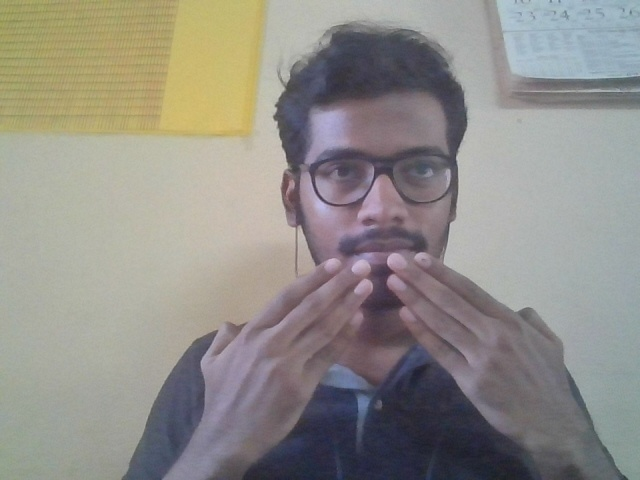ThankYou: (196, 252, 589, 442)
